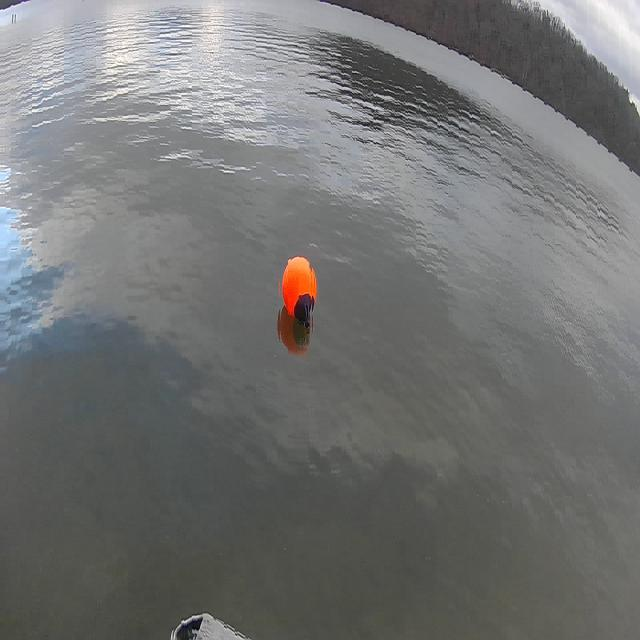Buoy: (279, 249, 324, 332)
